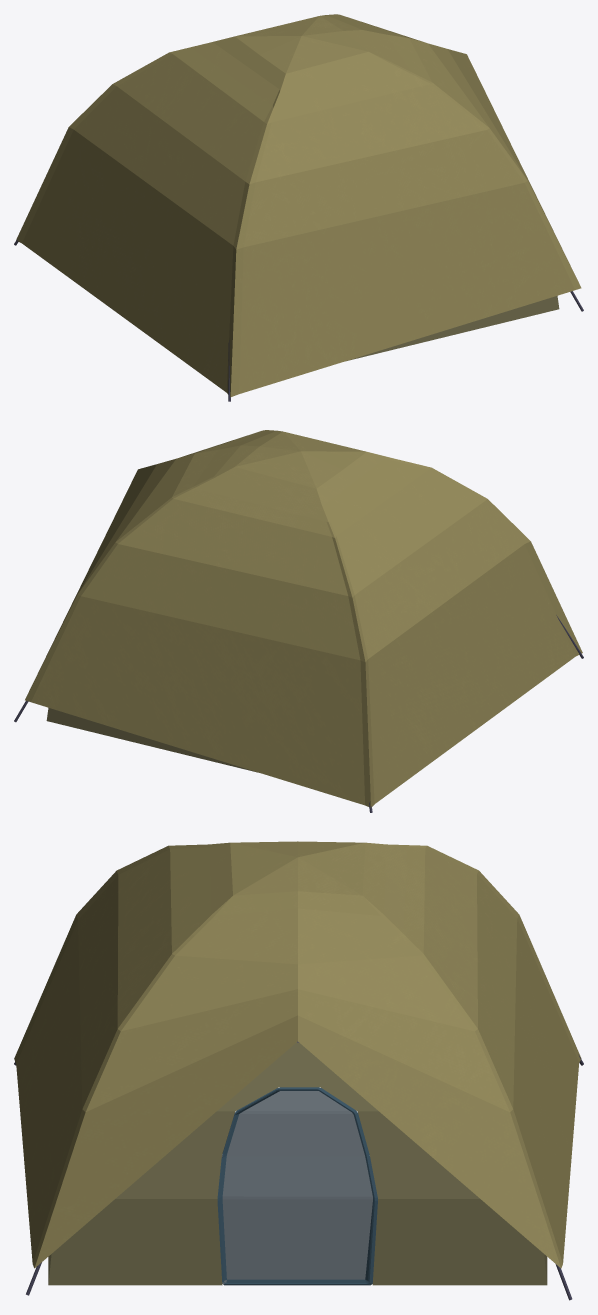
File: Tent 2.fbx
3 renders of one model, top to bottom at view 1: azimuth 30°, elevation 25°; view 2: azimuth 150°, elevation 25°; view 3: azimuth 270°, elevation 25°, orthographic. The views are drawn at different scales.
Parts seen in each view (by area): view 1: Sphere; view 2: Sphere; view 3: Sphere.
Part boxes in pixels (box(x1,y1,x2,y2)): Sphere: box(16, 14, 581, 397); Sphere: box(25, 430, 582, 807); Sphere: box(14, 841, 581, 1285).
Size of the model in its own units: 315 by 200 by 320.
